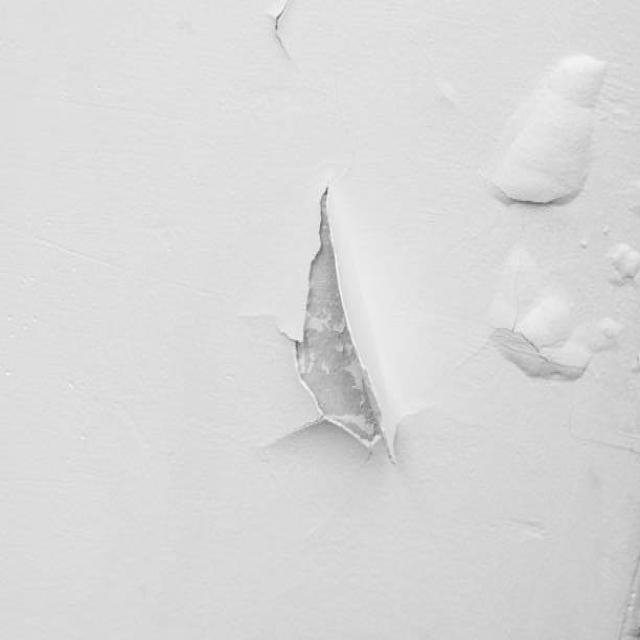peeling paint: (229, 0, 440, 504)
